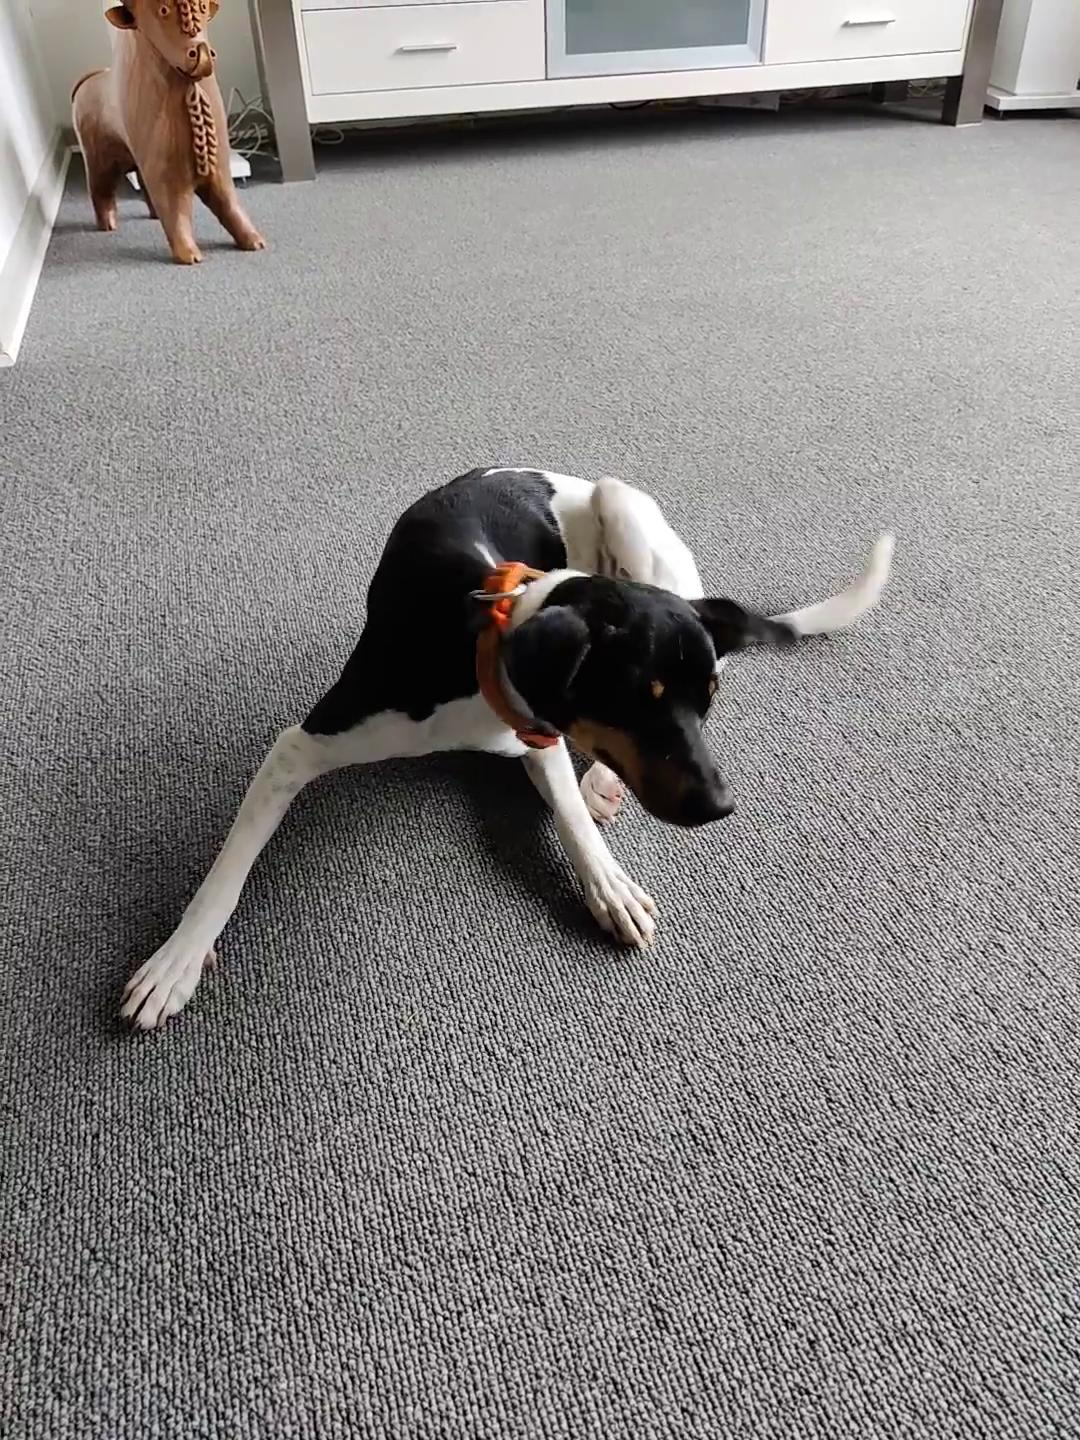Dog: (98, 439, 919, 1042)
